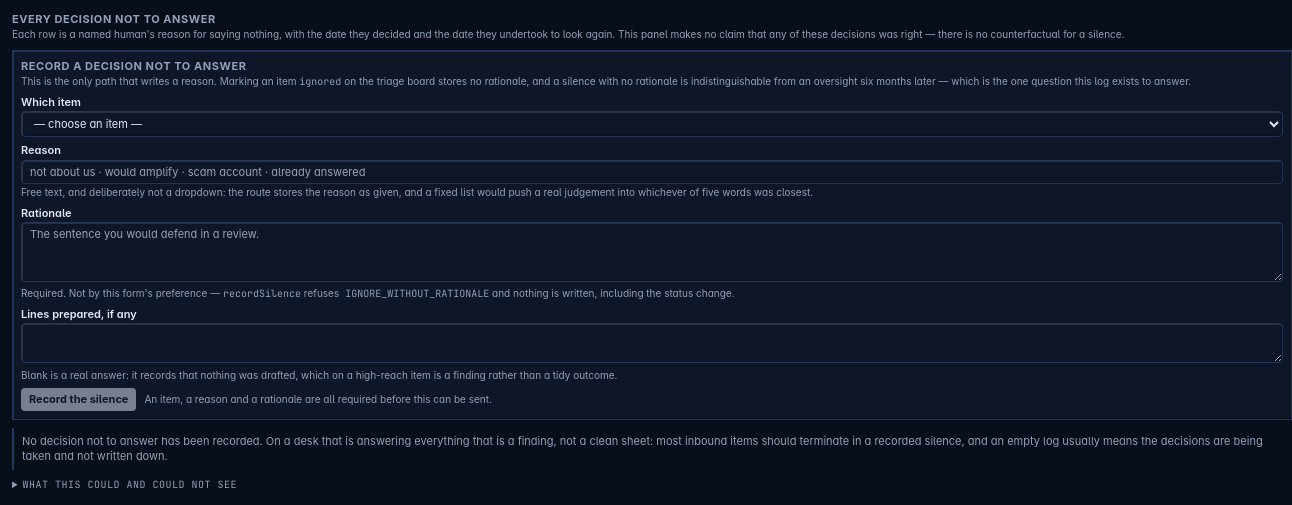
the silence log can finally record a silence › offers the write surface that did not exist, and refuses to send without a rationale
Expected: the button "Record the silence" is disabled, [21,388,136,411]
Select "@stranger · is LCX insolvent" in the dropdown named "Item to record a silence against" at (652, 124), box [21,111,1283,137]
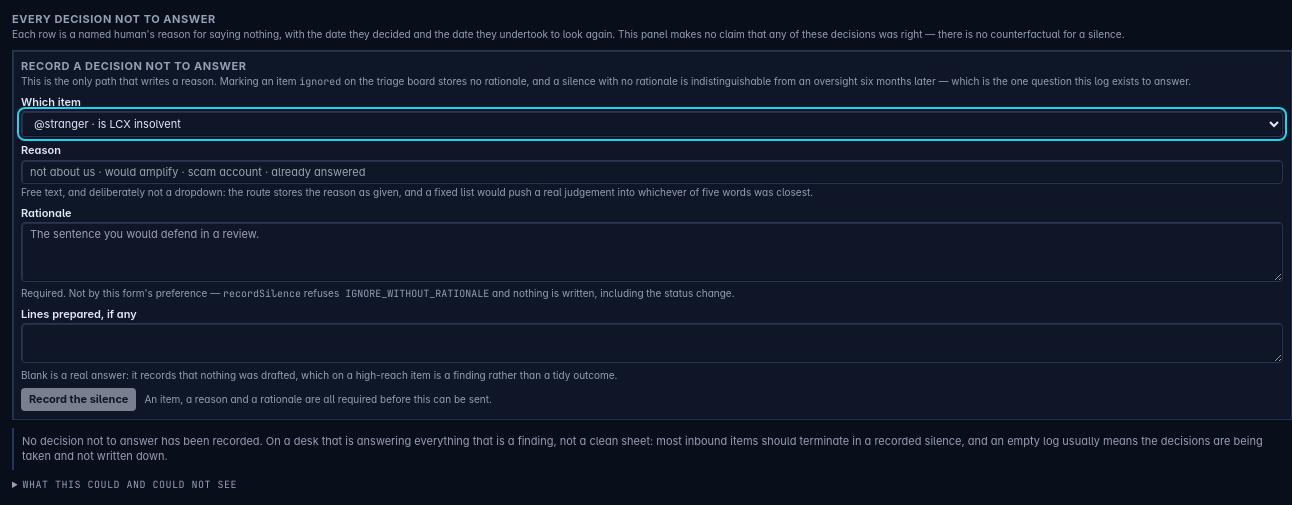
Type "would amplify" into the field labelled "Reason" at (652, 172), box [21,160,1283,184]
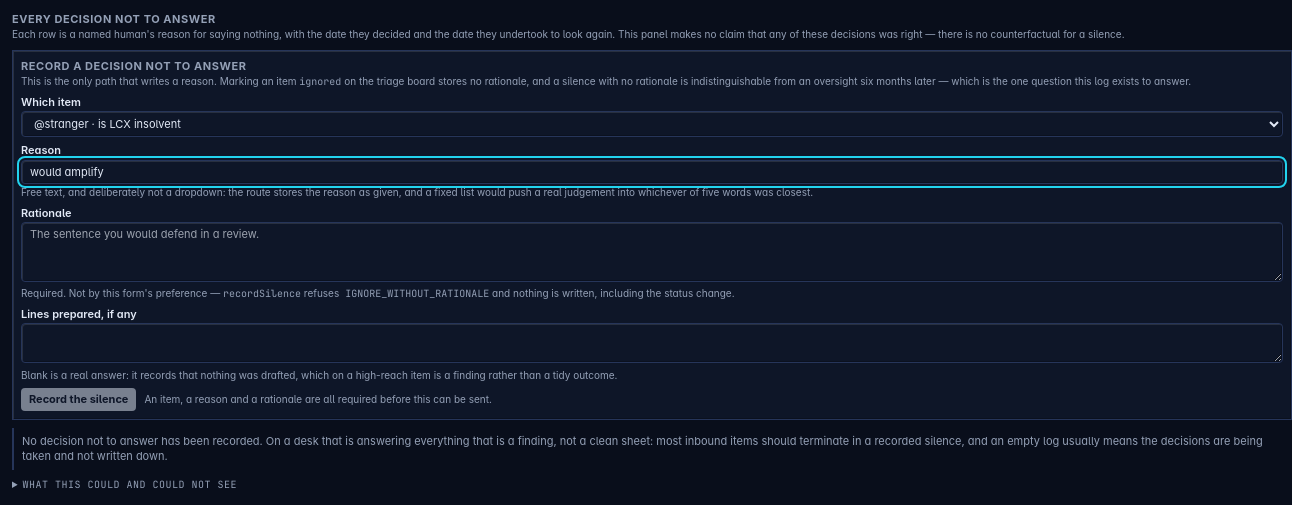
Expected: the button "Record the silence" is disabled, [21,388,136,411]
Type "A reply hands them the audience." into the text box labelled "Rationale" at (652, 252), box [21,222,1283,282]
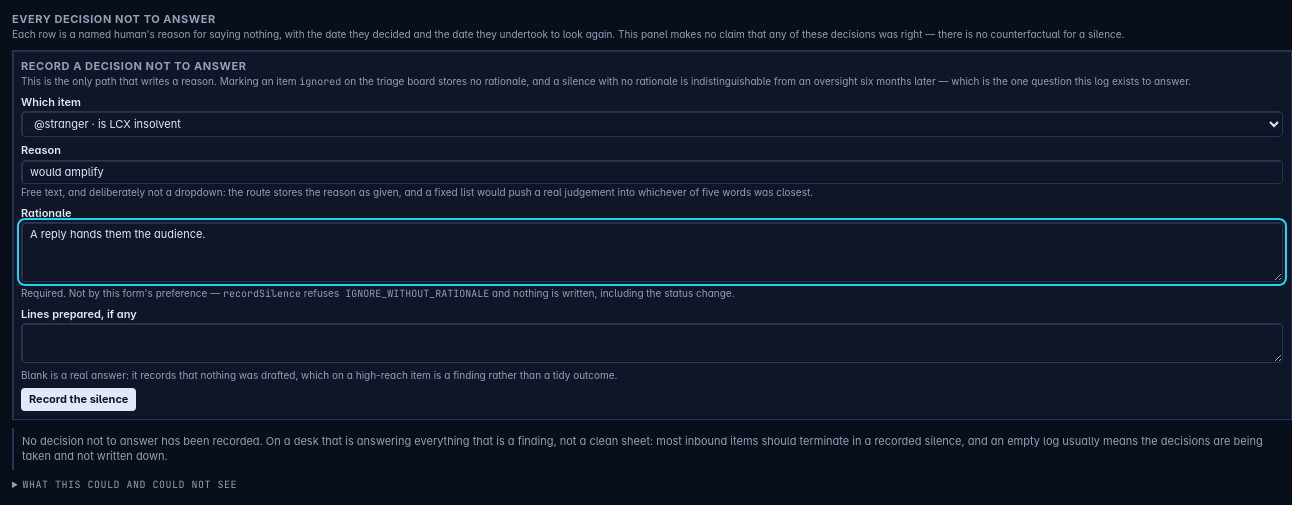
Expected: the button "Record the silence" is enabled, [21,388,136,411]
